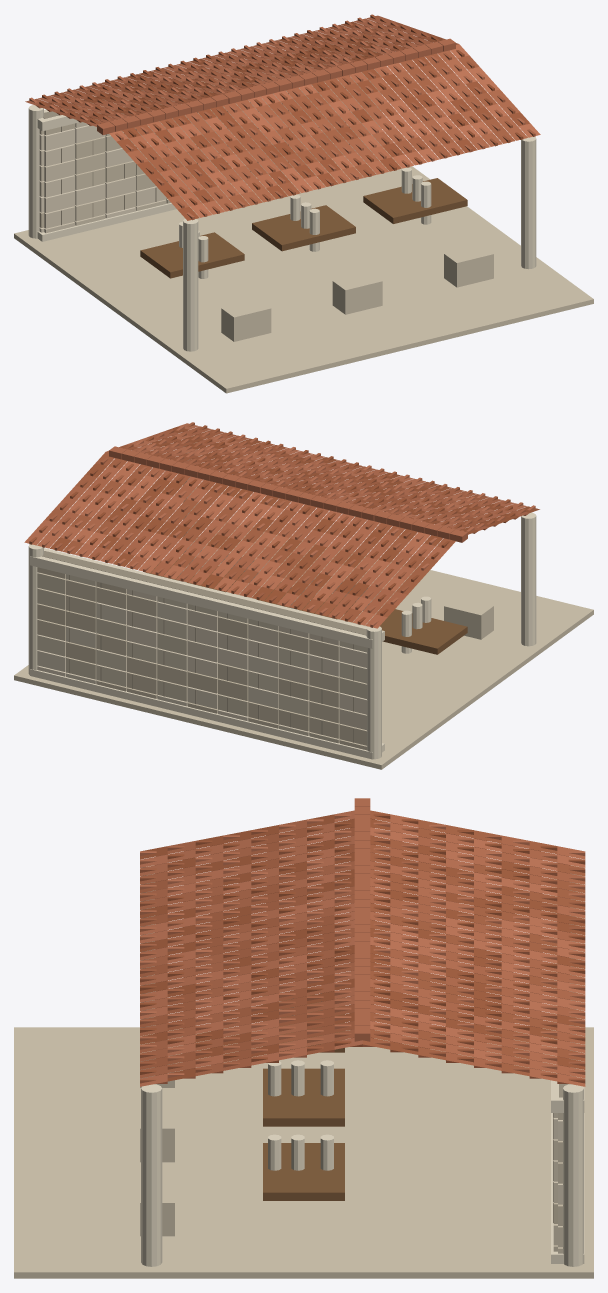
3 views of the same model, one above another, from view 1: azimuth 30°, elevation 25°; view 2: azimuth 150°, elevation 25°; view 3: azimuth 270°, elevation 25° (orthographic). The views are drawn at different scales.
Parts seen in each view (by area): view 1: Bergfried – Steine, Säulen, Ziegel und Feuerstelle; view 2: Bergfried – Steine, Säulen, Ziegel und Feuerstelle; view 3: Bergfried – Steine, Säulen, Ziegel und Feuerstelle.
Boxes of the visible parts, x1,y1,x2,y2 form: Bergfried – Steine, Säulen, Ziegel und Feuerstelle: (14,14,593,393); Bergfried – Steine, Säulen, Ziegel und Feuerstelle: (14,422,593,769); Bergfried – Steine, Säulen, Ziegel und Feuerstelle: (14,798,593,1278).
Size of the model in its own units: 990 by 445 by 990.
